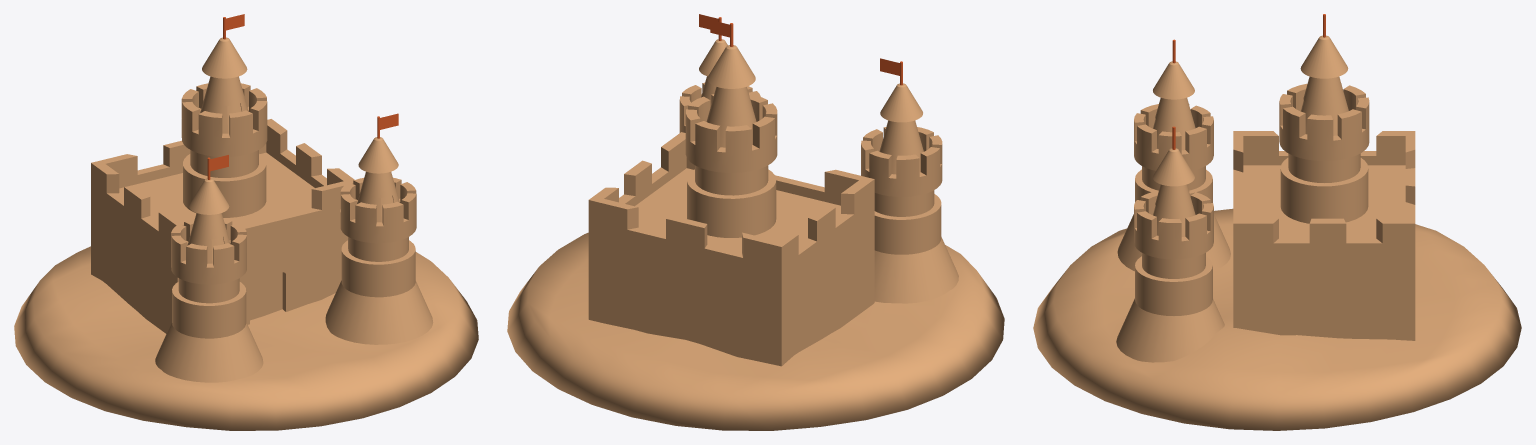
The model's file is SandCastle 1.fbx.
3 views of the same model, side by side, from view 1: azimuth 30°, elevation 25°; view 2: azimuth 150°, elevation 25°; view 3: azimuth 270°, elevation 25° (orthographic). The views are drawn at different scales.
Parts seen in each view (by area): view 1: Cube; view 2: Cube; view 3: Cube.
Boxes of the visible parts, x1,y1,x2,y2 form: Cube: (14,14,478,430); Cube: (507,14,1004,430); Cube: (1033,14,1521,430).
Bounding box in the file's own units: 150 × 106 × 150.
